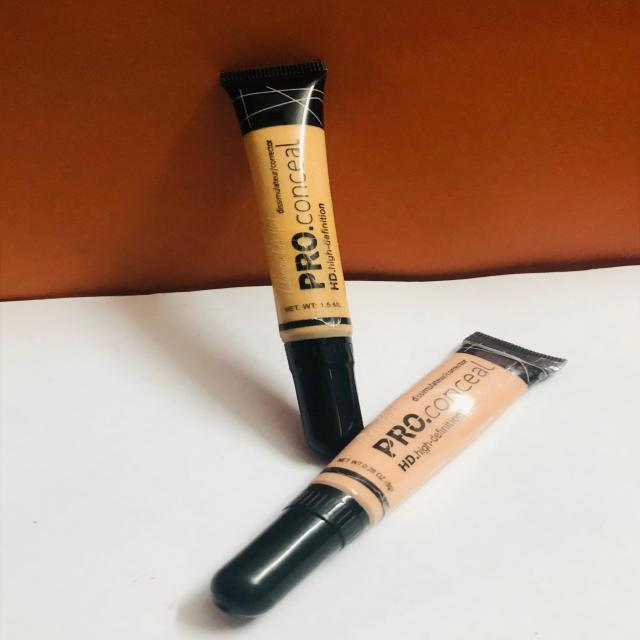concealer: (190, 316, 577, 628), (202, 44, 368, 454)
